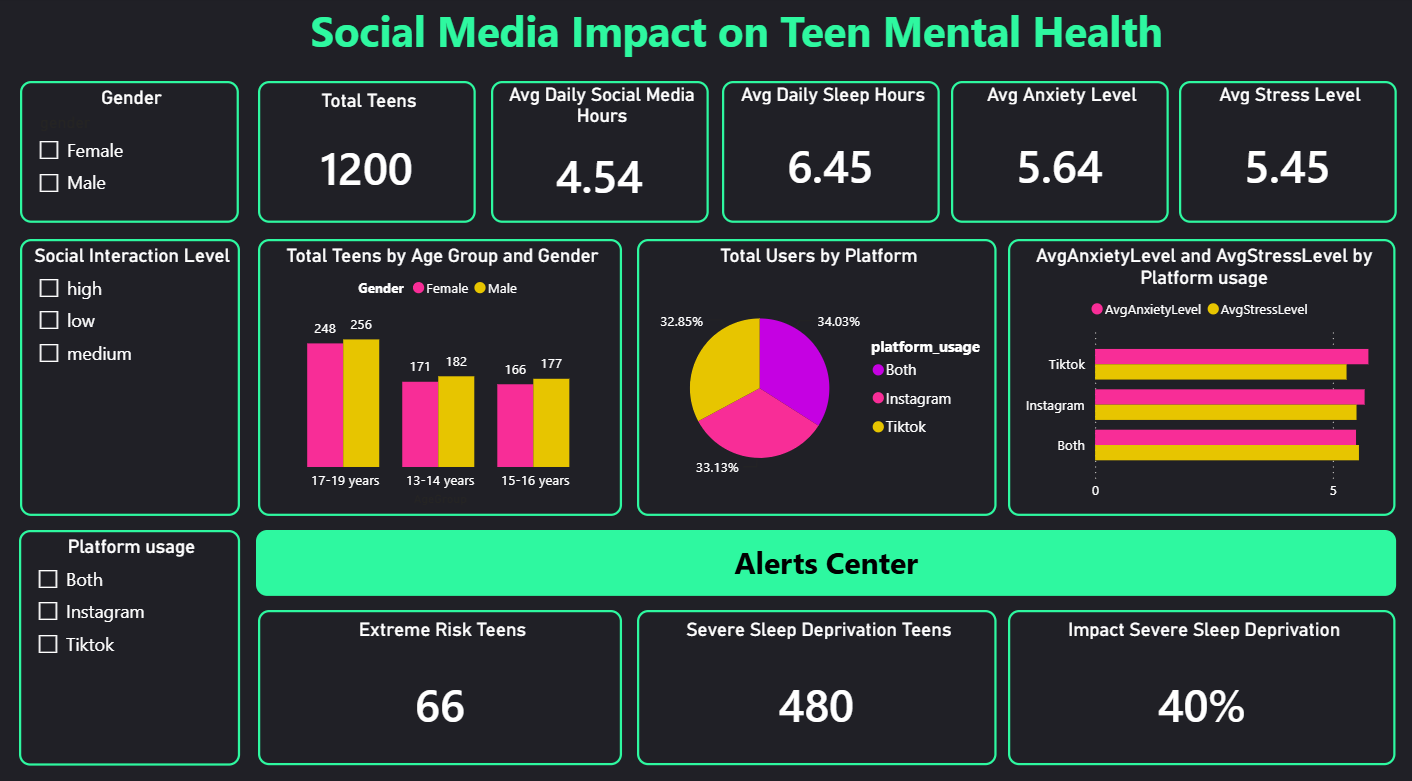

The dashboard page shown, as its layout file describes it:
{"tool":"powerbi","page":{"name":"Page 1","canvas":[1280,720],"ordinal":0},"visuals":[{"type":"slicer","title":"Gender","fields":{"Values":["Dim_Teenager.gender"]},"box":[31.5,75.4,195.7,127],"z":0},{"type":"cardVisual","title":"Avg Daily Social Media Hours","fields":{"Data":["_Measures.AvgDailySocialMediaHours"]},"box":[453.4,75.4,194.7,127],"z":1000},{"type":"pieChart","title":"Total Users by Platform","fields":{"Category":["Dim_Platform.platform_usage"],"Y":["Sum(Fact_Mental_Health_Impact.id_record)"]},"box":[584.2,216.7,321.7,248.2],"z":2000},{"type":"textbox","box":[259.6,0,826.6,69.7],"z":3000},{"type":"cardVisual","title":"Total Teens","fields":{"Data":["_Measures.TotalTeens"]},"box":[244.4,75.4,194.7,127],"z":4000},{"type":"cardVisual","title":"Avg Daily Sleep Hours ","fields":{"Data":["_Measures.AvgSleepHours"]},"box":[659.6,75.4,194.7,127],"z":5000},{"type":"cardVisual","title":"Avg Anxiety Level","fields":{"Data":["_Measures.AvgAnxietyLevel"]},"box":[864.8,75.4,194.7,127],"z":6000},{"type":"cardVisual","title":"Avg Stress Level","fields":{"Data":["_Measures.AvgStressLevel"]},"box":[1069.1,75.4,194.7,127],"z":7000},{"type":"clusteredBarChart","title":"AvgAnxietyLevel and AvgStressLevel by Platform usage","fields":{"Y":["_Measures.AvgAnxietyLevel","_Measures.AvgStressLevel"],"Category":["Dim_Platform.platform_usage"]},"box":[916.3,216.7,347.4,248.2],"z":8000},{"type":"clusteredColumnChart","title":"Total Teens by Age Group and Gender","fields":{"Category":["Dim_Teenager.AgreGroup"],"Series":["Dim_Teenager.gender"],"Y":["_Measures.TotalTeens"]},"box":[244.4,216.7,326.4,248.2],"z":9000},{"type":"slicer","title":"Social Interaction Level","fields":{"Values":["Dim_Teenager.social_interaction_level"]},"box":[31.5,216.7,196.6,248.2],"z":10000},{"type":"cardVisual","title":"Extreme Risk Teens","fields":{"Data":["_Measures.ExtremeRiskTeens"]},"box":[244.4,548.8,326.4,139.4],"z":11000},{"type":"textbox","box":[242.4,477.3,1021.3,59.2],"z":12000},{"type":"cardVisual","title":"Severe Sleep Deprivation Teens","fields":{"Data":["_Measures.SevereSleepDeprivationTeens"]},"box":[584.2,548.8,321.7,139.4],"z":13000},{"type":"cardVisual","title":"Impact Severe Sleep Deprivation","fields":{"Data":["_Measures.PctSevereSleepDeprivation"]},"box":[916.3,548.8,347.4,139.4],"z":14000},{"type":"slicer","title":"Platform usage","fields":{"Values":["Dim_Platform.platform_usage"]},"box":[30.5,477.3,197.6,210.9],"z":15000}]}

Visuals, with their boxes in screenshot pixels (x1, y1, x2, y2), scaled from the page's 1280x720 canvas onto the 1412x781 screenshot:
"Gender" slicer: [x1=35, y1=82, x2=251, y2=220]
"Avg Daily Social Media Hours" cardVisual: [x1=500, y1=82, x2=715, y2=220]
"Total Users by Platform" pieChart: [x1=644, y1=235, x2=999, y2=504]
textbox: [x1=286, y1=0, x2=1198, y2=76]
"Total Teens" cardVisual: [x1=270, y1=82, x2=484, y2=220]
"Avg Daily Sleep Hours " cardVisual: [x1=728, y1=82, x2=942, y2=220]
"Avg Anxiety Level" cardVisual: [x1=954, y1=82, x2=1169, y2=220]
"Avg Stress Level" cardVisual: [x1=1179, y1=82, x2=1394, y2=220]
"AvgAnxietyLevel and AvgStressLevel by Platform usage" clusteredBarChart: [x1=1011, y1=235, x2=1394, y2=504]
"Total Teens by Age Group and Gender" clusteredColumnChart: [x1=270, y1=235, x2=630, y2=504]
"Social Interaction Level" slicer: [x1=35, y1=235, x2=252, y2=504]
"Extreme Risk Teens" cardVisual: [x1=270, y1=595, x2=630, y2=747]
textbox: [x1=267, y1=518, x2=1394, y2=582]
"Severe Sleep Deprivation Teens" cardVisual: [x1=644, y1=595, x2=999, y2=747]
"Impact Severe Sleep Deprivation" cardVisual: [x1=1011, y1=595, x2=1394, y2=747]
"Platform usage" slicer: [x1=34, y1=518, x2=252, y2=747]
